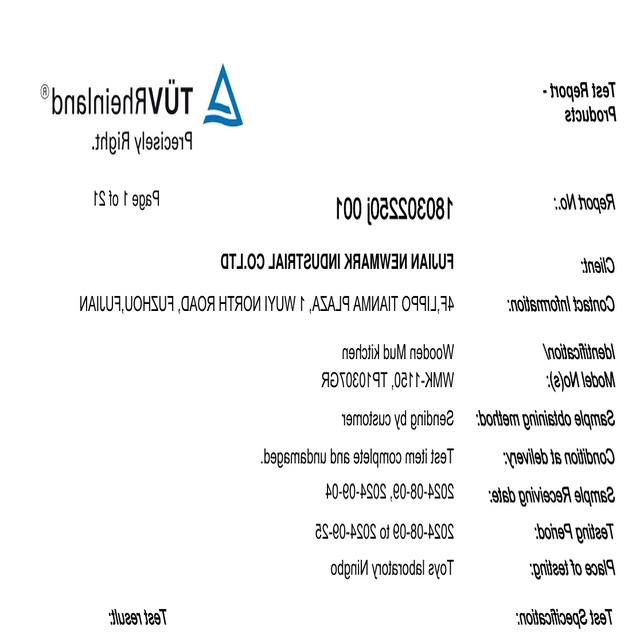tuv_rheinland: (37, 59, 246, 130)
